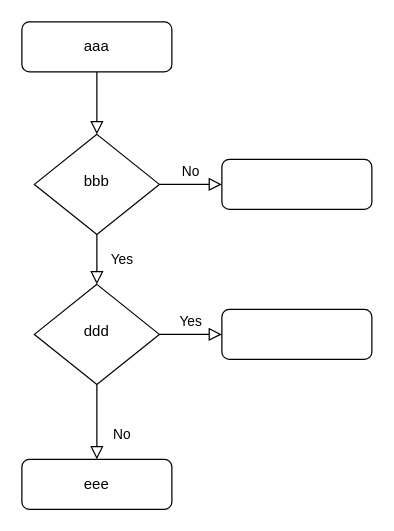
Image size: 394x531. Some labels were removed from this diagram. Here are the shapes that lost their labels. From the top down, the box of each, then its label:
(221, 158, 372, 209): ccc
(221, 308, 372, 359): rrr
